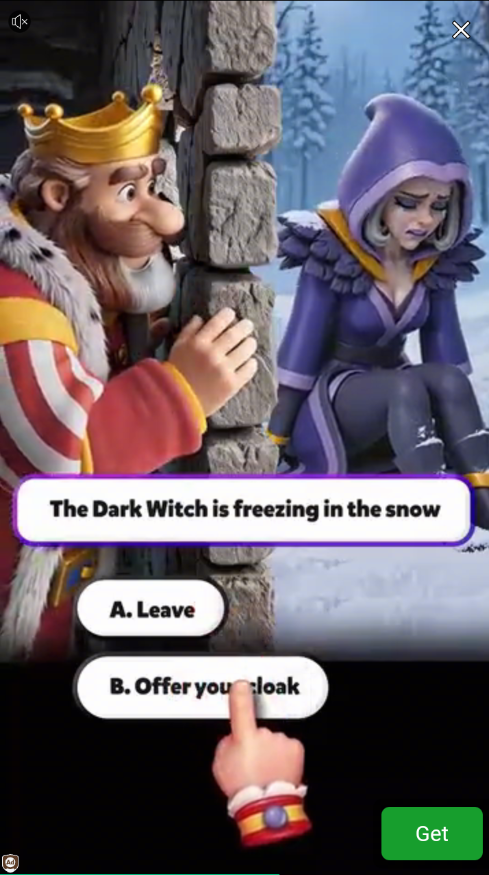close_button: (451, 16, 470, 43)
